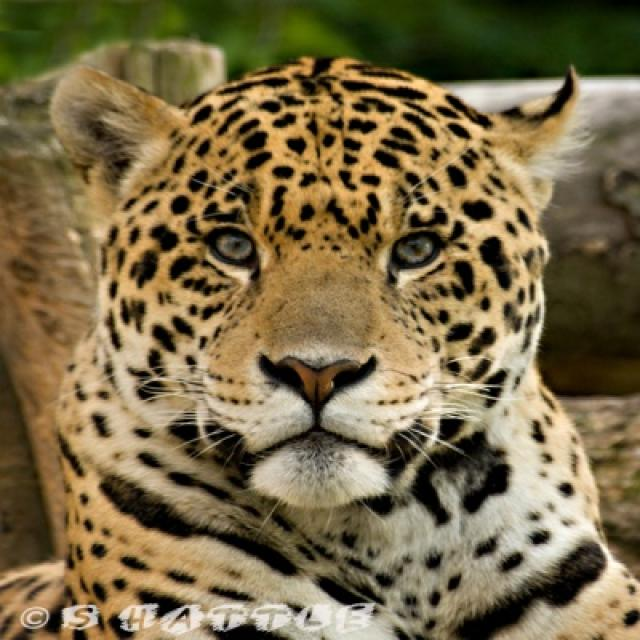Jaguar: (1, 58, 638, 637)
